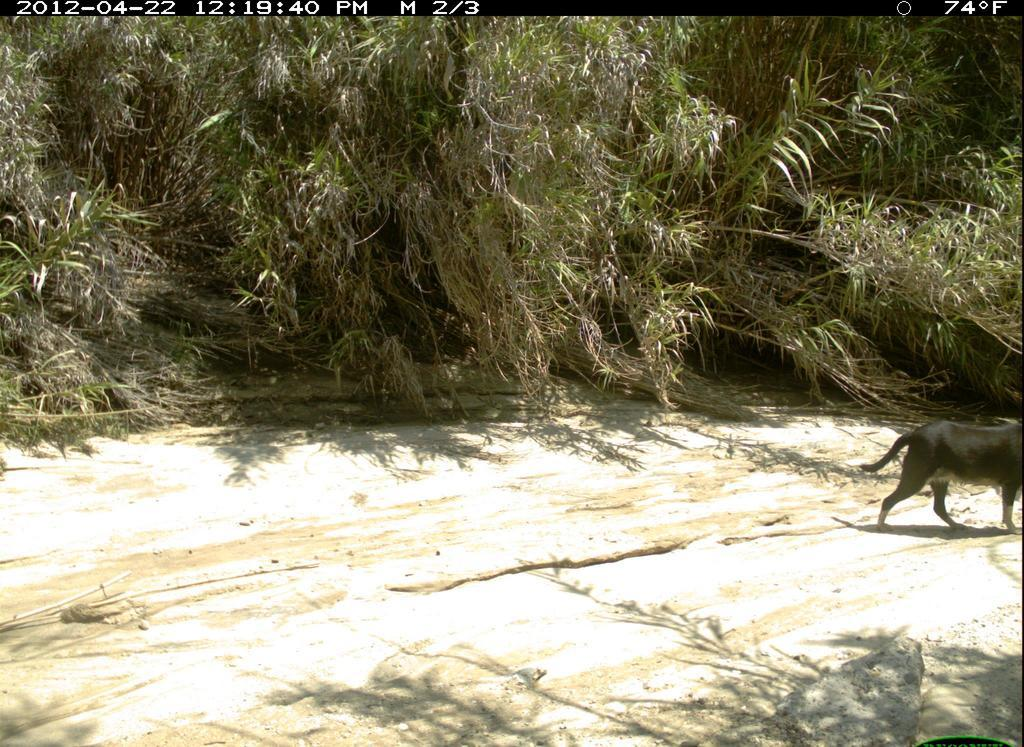dog: (854, 411, 1023, 537)
